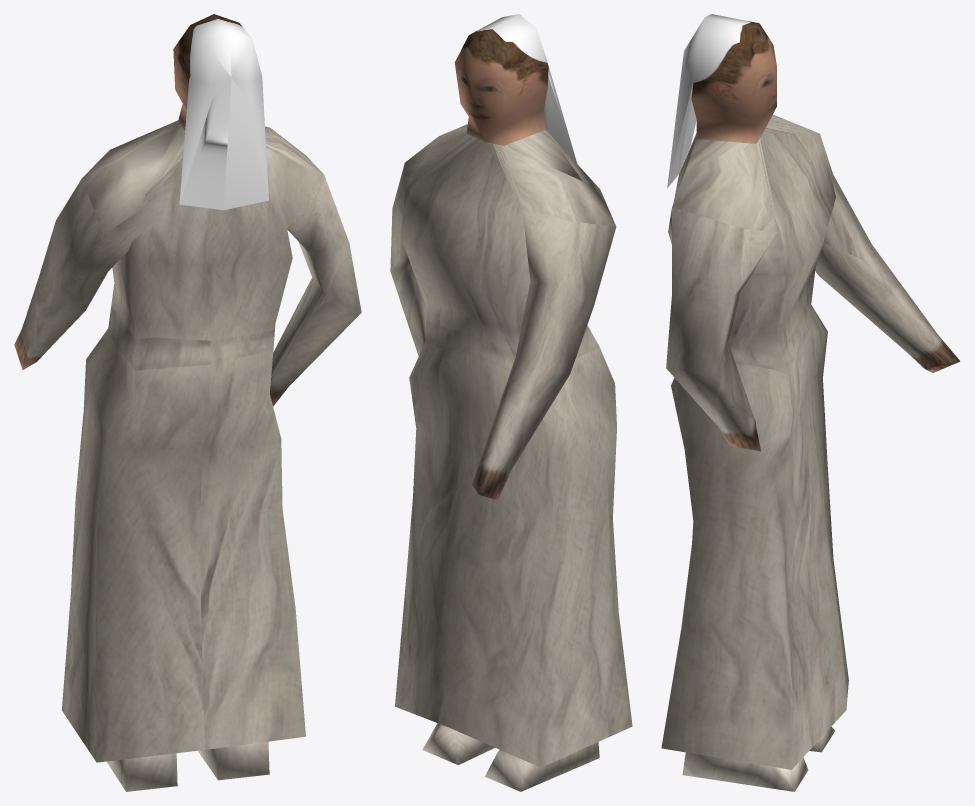
Rendered from lady1_53.fbx.
3 views of the same model, side by side, from view 1: azimuth 30°, elevation 25°; view 2: azimuth 150°, elevation 25°; view 3: azimuth 270°, elevation 25° (orthographic). The views are drawn at different scales.
Parts seen in each view (by area): view 1: lady1_53; view 2: lady1_53; view 3: lady1_53.
Part boxes in pixels (<box>): lady1_53: <box>14,14,361,791</box>; lady1_53: <box>390,14,632,791</box>; lady1_53: <box>661,14,960,791</box>.
Bounding box in the file's own units: 12.63 × 35.63 × 12.93.
